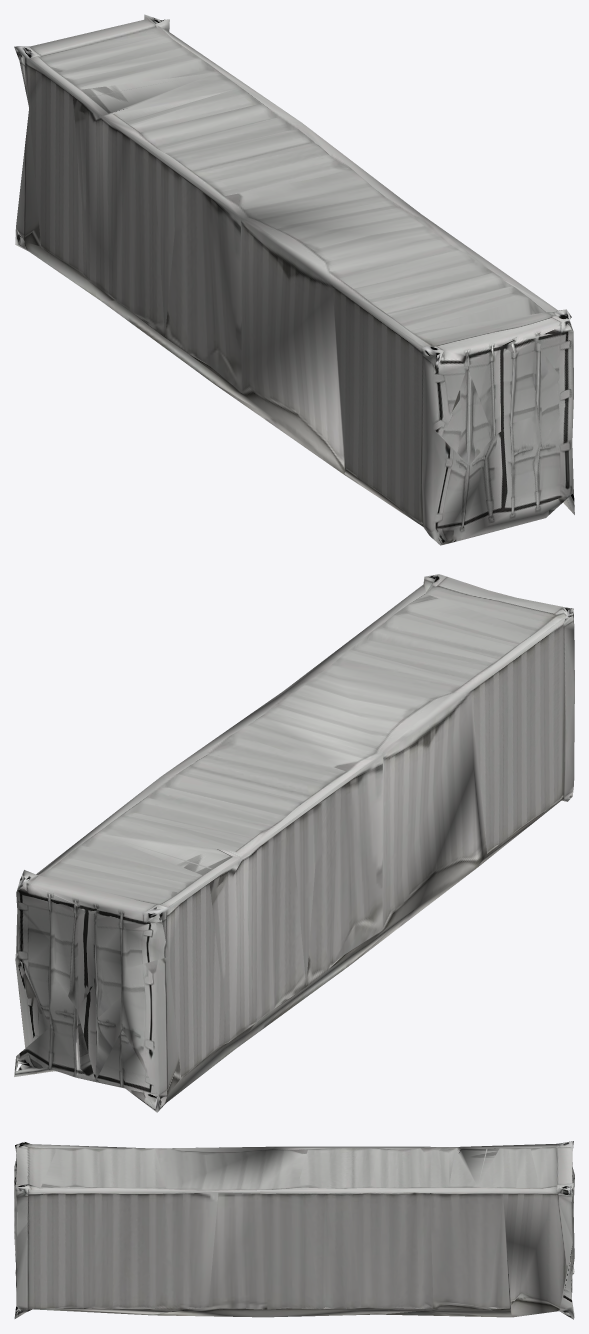
The model's file is teluk-container.glb.
3 views of the same model, one above another, from view 1: azimuth 30°, elevation 25°; view 2: azimuth 150°, elevation 25°; view 3: azimuth 270°, elevation 25° (orthographic). The views are drawn at different scales.
Visible parts, largest first — view 1: teluk-container; view 2: teluk-container; view 3: teluk-container.
Part boxes in pixels (x1,y1,x2,y2): teluk-container: (14, 14, 574, 545); teluk-container: (14, 574, 574, 1112); teluk-container: (14, 1141, 574, 1319).
Size of the model in its own units: 2.43 by 3.2 by 12.19.
1 material, 1 textured.
